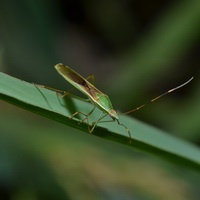insect: (54, 63, 130, 137)
